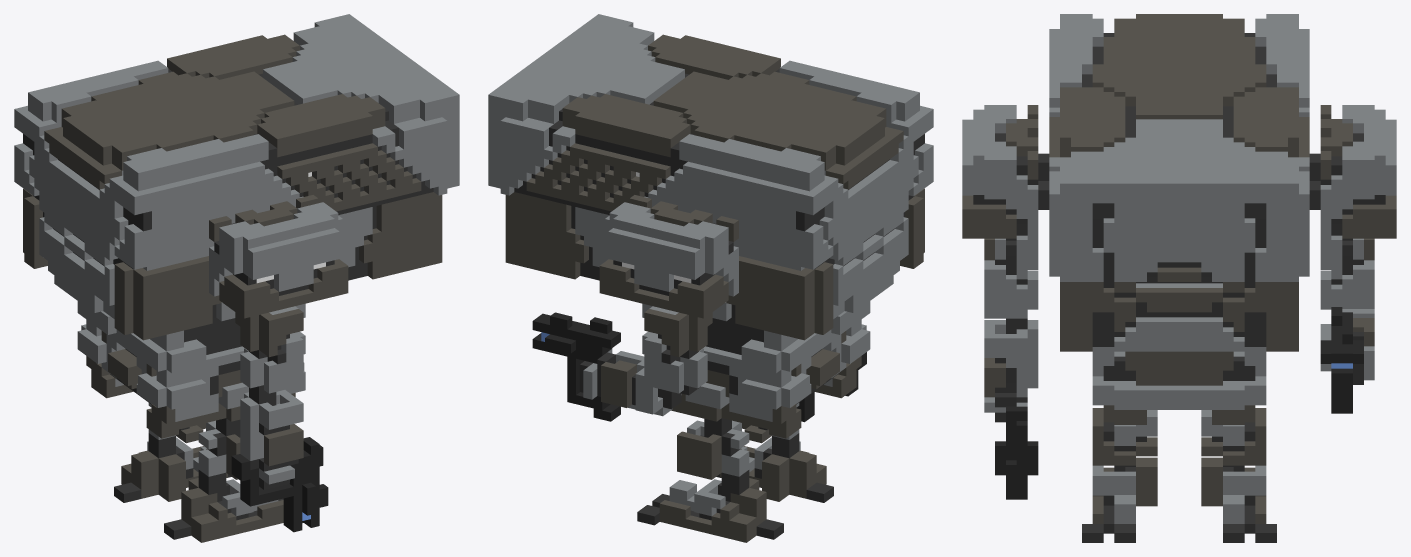
The model's file is mecha.obj.
3 views of the same model, side by side, from view 1: azimuth 30°, elevation 25°; view 2: azimuth 150°, elevation 25°; view 3: azimuth 270°, elevation 25° (orthographic). The views are drawn at different scales.
Bounding box in the file's own units: 3.8 × 4.4 × 4.
Materials: 1 (1 with a texture image).
